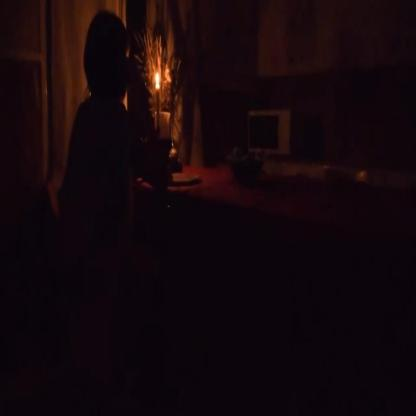fire: (154, 71, 160, 86)
